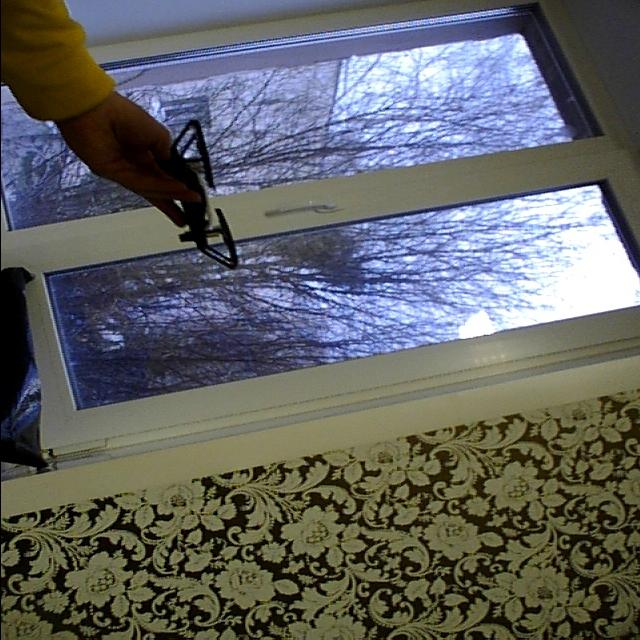drone: (158, 118, 248, 276)
